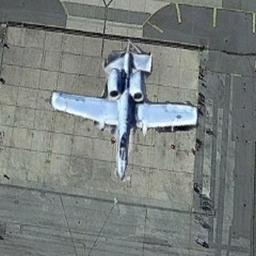Airplane: (49, 39, 198, 180)
